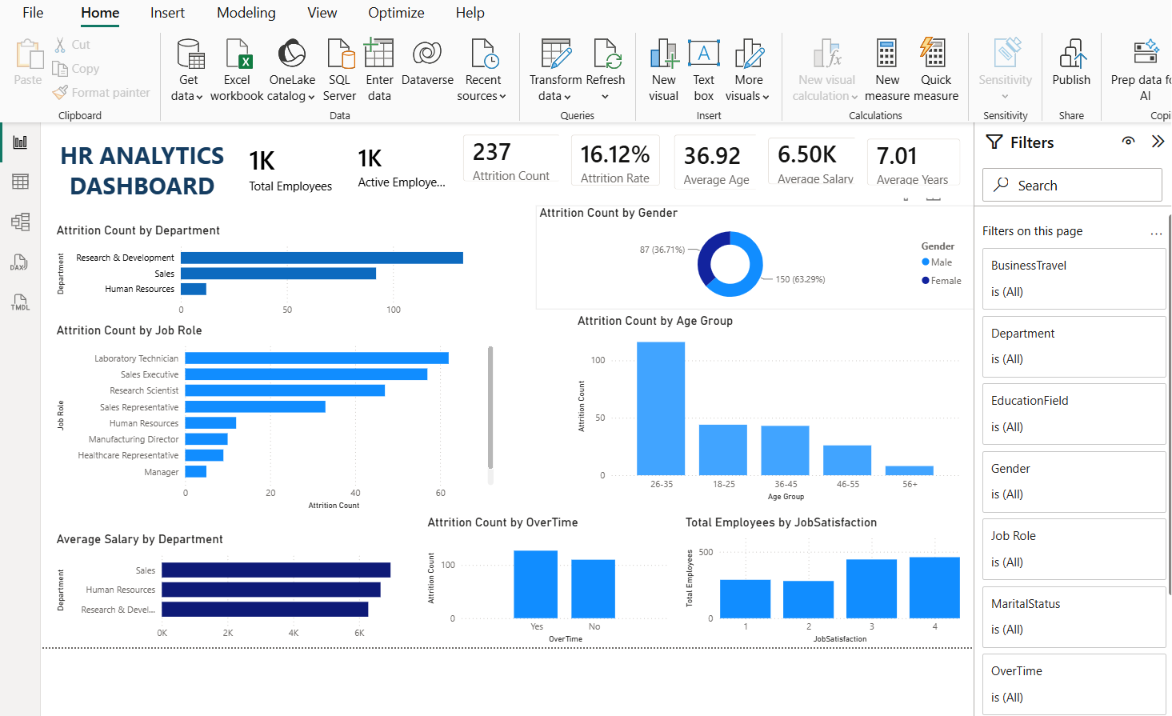

Layout of this report page (visuals, bound fields, positions):
{"tool":"powerbi","page":{"name":"Page 1","canvas":[1280,720],"ordinal":0},"visuals":[{"type":"cardVisual","fields":{"Data":["HR.Active Employees"]},"box":[406.2,8.6,178.2,101.2],"z":0},{"type":"cardVisual","fields":{"Data":["HR.Total Employees"]},"box":[256.6,11.4,176.7,102.6],"z":1000},{"type":"cardVisual","fields":{"Data":["HR.Attrition Count"]},"box":[563,0,168.2,98.4],"z":2000},{"type":"cardVisual","fields":{"Data":["HR.Attrition Rate"]},"box":[711.3,0,156.8,104.1],"z":3000},{"type":"cardVisual","fields":{"Data":["HR.Average Age"]},"box":[852.4,0,152.5,109.8],"z":4000},{"type":"cardVisual","fields":{"Data":["HR.Average Salary"]},"box":[980.7,4.3,169.6,98.4],"z":5000},{"type":"clusteredBarChart","fields":{"Category":["HR.Department"],"Y":["HR.Attrition Count"]},"box":[17.1,136.8,598.7,138.3],"z":6000},{"type":"donutChart","fields":{"Category":["HR.Gender"],"Y":["HR.Attrition Count"]},"box":[679.9,114,600.1,142.5],"z":7000},{"type":"clusteredBarChart","fields":{"Category":["HR.Job Role"],"Y":["HR.Attrition Count"]},"box":[17.1,275.1,610.1,262.3],"z":8000},{"type":"clusteredColumnChart","fields":{"Category":["HR.Age Group"],"Y":["HR.Attrition Count"]},"box":[731.4,262.1,535.2,262.1],"z":9000},{"type":"clusteredBarChart","fields":{"Category":["HR.Department"],"Y":["HR.Average Salary"]},"box":[17.1,561.6,477.5,158.2],"z":10000},{"type":"columnChart","fields":{"Category":["HR.OverTime"],"Y":["HR.Attrition Count"]},"box":[526,537.4,342.1,182.4],"z":11000},{"type":"cardVisual","fields":{"Data":["HR.Average Years"]},"box":[1117.5,5.7,162.5,98.4],"z":12000},{"type":"clusteredColumnChart","fields":{"Category":["HR.JobSatisfaction"],"Y":["HR.Total Employees"]},"box":[879.6,537.9,387,182.5],"z":13000},{"type":"textbox","box":[0,0,278,124],"z":14000}]}

Visuals, with their boxes on the page's 1280x720 design canvas (x1, y1, x2, y2). These are canvas units, not pixel positions in the 1172x716 screenshot, which may show the page scaled, cropped or inside an application window:
cardVisual - HR.Active Employees: bbox=(406, 9, 584, 110)
cardVisual - HR.Total Employees: bbox=(257, 11, 433, 114)
cardVisual - HR.Attrition Count: bbox=(563, 0, 731, 98)
cardVisual - HR.Attrition Rate: bbox=(711, 0, 868, 104)
cardVisual - HR.Average Age: bbox=(852, 0, 1005, 110)
cardVisual - HR.Average Salary: bbox=(981, 4, 1150, 103)
clusteredBarChart - HR.Department x HR.Attrition Count: bbox=(17, 137, 616, 275)
donutChart - HR.Gender x HR.Attrition Count: bbox=(680, 114, 1280, 256)
clusteredBarChart - HR.Job Role x HR.Attrition Count: bbox=(17, 275, 627, 537)
clusteredColumnChart - HR.Age Group x HR.Attrition Count: bbox=(731, 262, 1267, 524)
clusteredBarChart - HR.Department x HR.Average Salary: bbox=(17, 562, 495, 720)
columnChart - HR.OverTime x HR.Attrition Count: bbox=(526, 537, 868, 720)
cardVisual - HR.Average Years: bbox=(1118, 6, 1280, 104)
clusteredColumnChart - HR.JobSatisfaction x HR.Total Employees: bbox=(880, 538, 1267, 720)
textbox: bbox=(0, 0, 278, 124)
